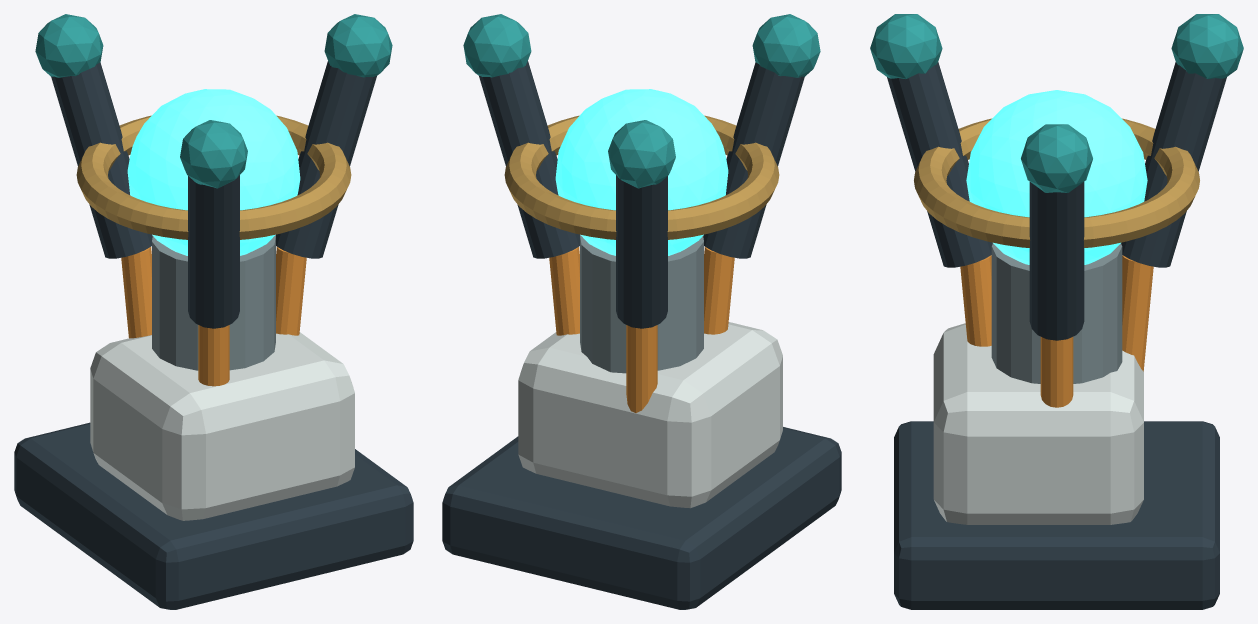
File: containment_projector.glb
The picture shows the model from 3 angles, left to right: view 1: azimuth 30°, elevation 25°; view 2: azimuth 150°, elevation 25°; view 3: azimuth 270°, elevation 25°; orthographic projection. The views are drawn at different scales.
Visible parts, largest first — view 1: containment_projector_mesh, Field_gimbal_mesh; view 2: containment_projector_mesh, Field_gimbal_mesh; view 3: containment_projector_mesh, Field_gimbal_mesh.
Boxes of the visible parts, <box> form: containment_projector_mesh: <box>14,235,413,609</box>; Field_gimbal_mesh: <box>35,14,392,328</box>; containment_projector_mesh: <box>442,235,841,609</box>; Field_gimbal_mesh: <box>463,14,820,328</box>; containment_projector_mesh: <box>894,243,1219,609</box>; Field_gimbal_mesh: <box>870,14,1243,340</box>.
Bounding box in the file's own units: 1 × 1.52 × 1.03.
